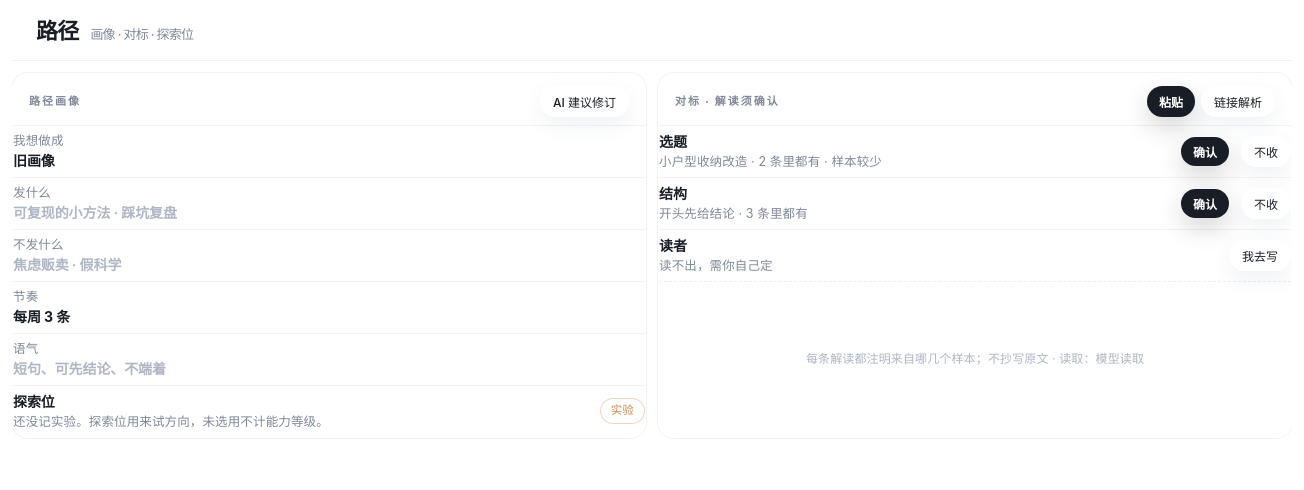
PathPage › bumps expected_version with the version returned by the previous save
Click the text "旧画像" at {"x": 34, "y": 161}, box [13,152,55,169]
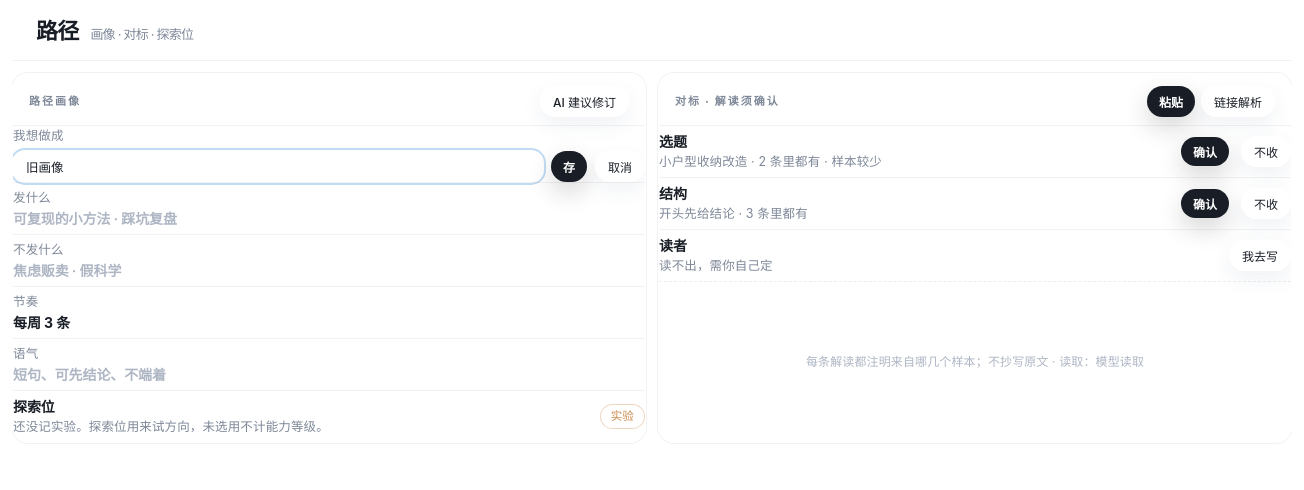
Replace the text in the field named "我想做成" with "把生活实验讲清楚的博主" at {"x": 278, "y": 167}, box [13,151,543,182]
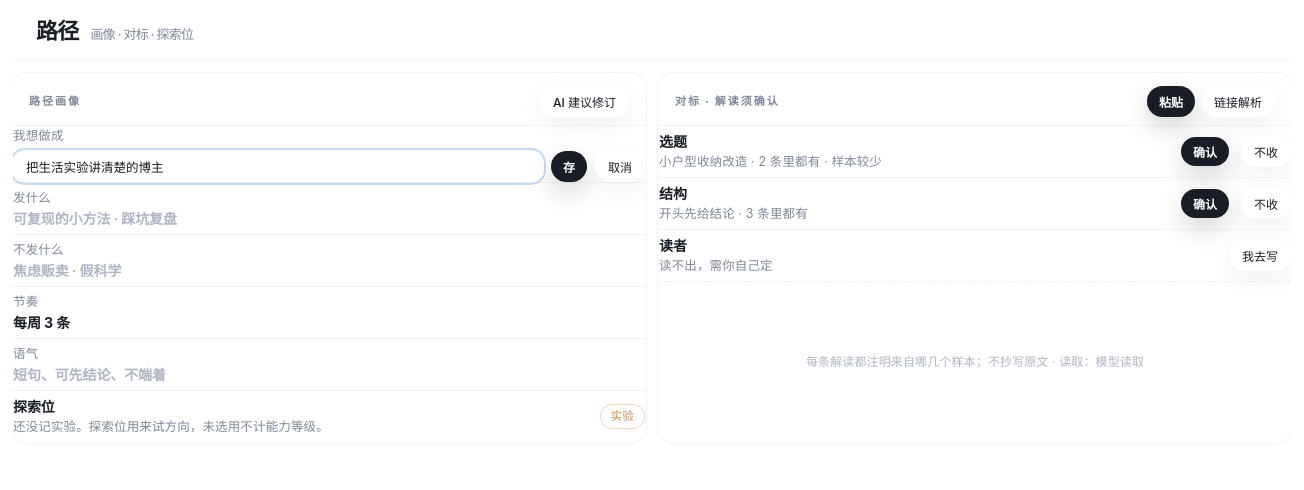
Click the button "存" at {"x": 569, "y": 167}, box [551,151,587,182]
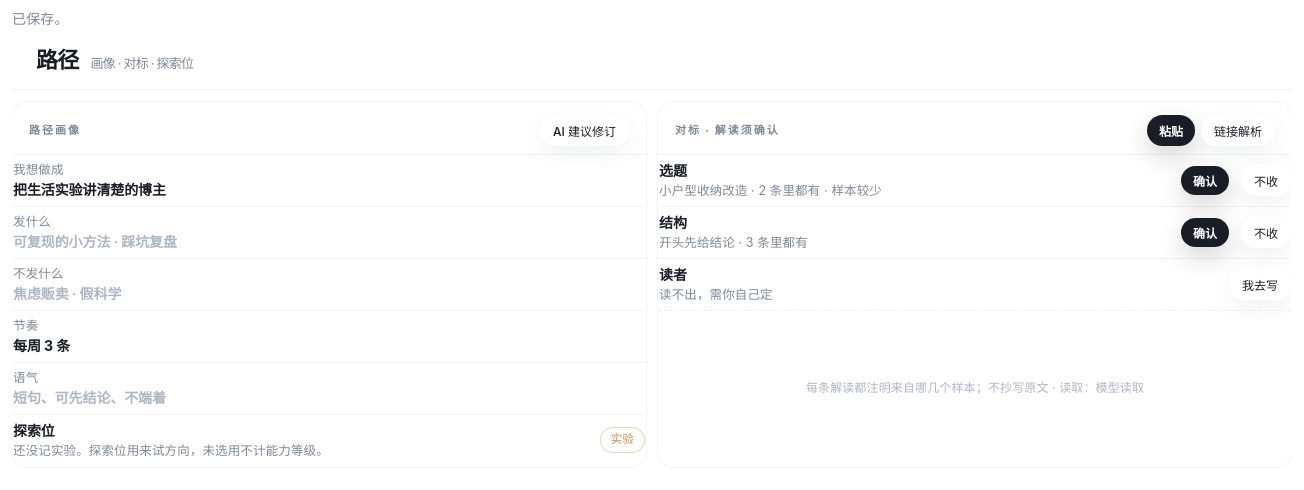
Expected: the text "已保存。" is shown, [12,10,68,27]
第二次保存必须带服务端返回的新版本号，且只发变化的字段。
Click the text "每周 3 条" at {"x": 42, "y": 346}, box [13,337,70,354]
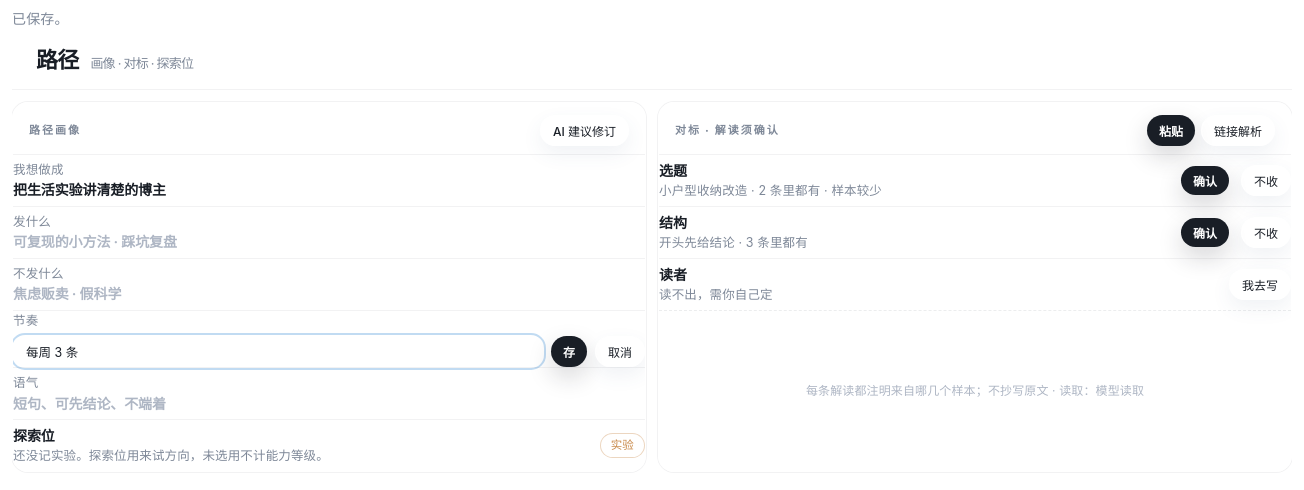
Replace the text in the field named "节奏" with "每周 5 条" at {"x": 278, "y": 352}, box [13,336,543,367]
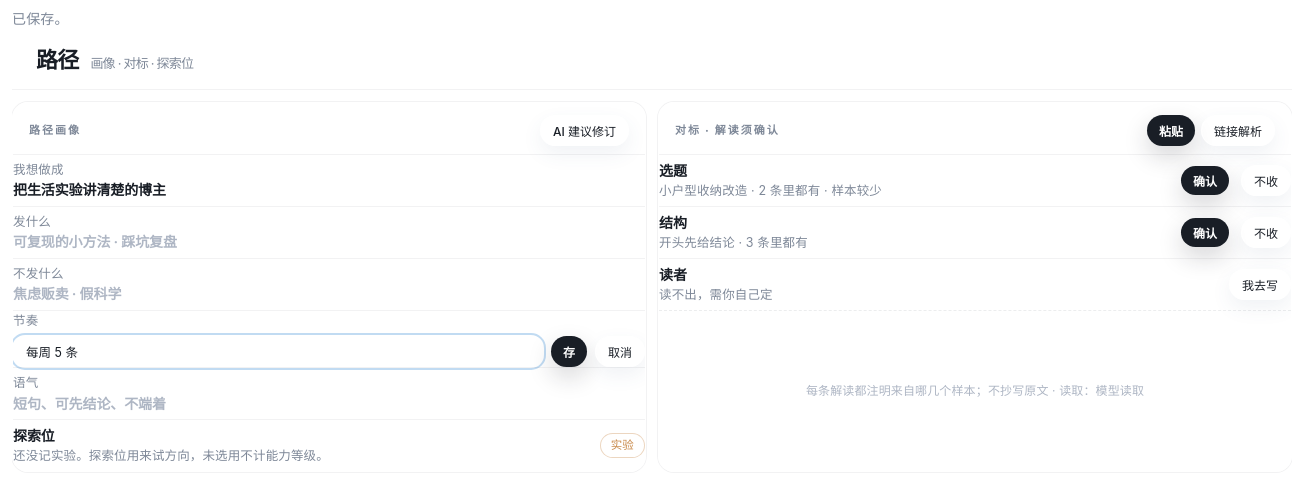
Click the button "存" at {"x": 569, "y": 352}, box [551,336,587,367]
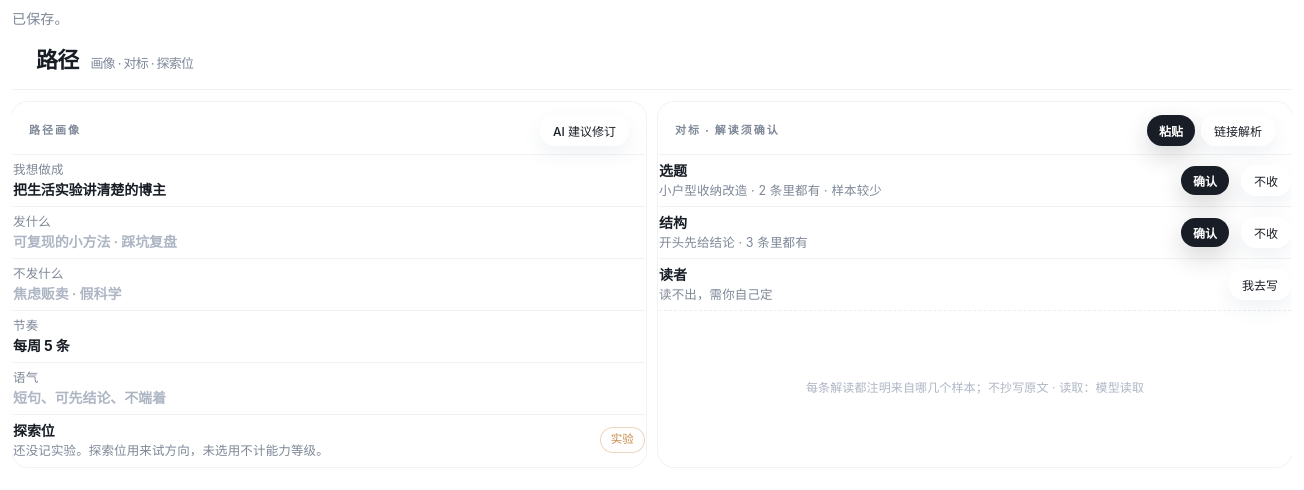
Expected: the text "把生活实验讲清楚的博主" is shown, [13,181,166,198]
Expected: the text "每周 5 条" is shown, [13,337,70,354]
